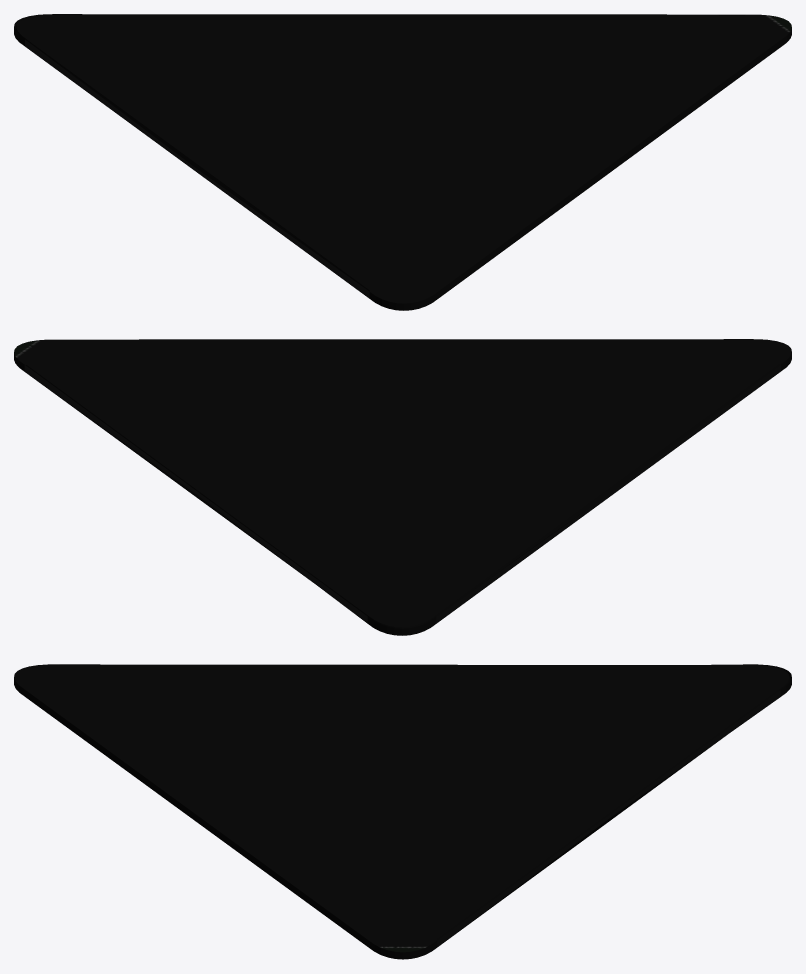
The picture shows the model from 3 angles, top to bottom: view 1: azimuth 30°, elevation 25°; view 2: azimuth 150°, elevation 25°; view 3: azimuth 270°, elevation 25°; orthographic projection.
Visible parts, largest first — view 1: Cube.003; view 2: Cube.003; view 3: Cube.003.
Boxes of the visible parts, x1,y1,x2,y2 form: Cube.003: (14, 14, 791, 310); Cube.003: (14, 339, 791, 635); Cube.003: (14, 664, 791, 959).
Size of the model in its own units: 0.0743 by 0.000864 by 0.0849.
1 material, 1 textured.
